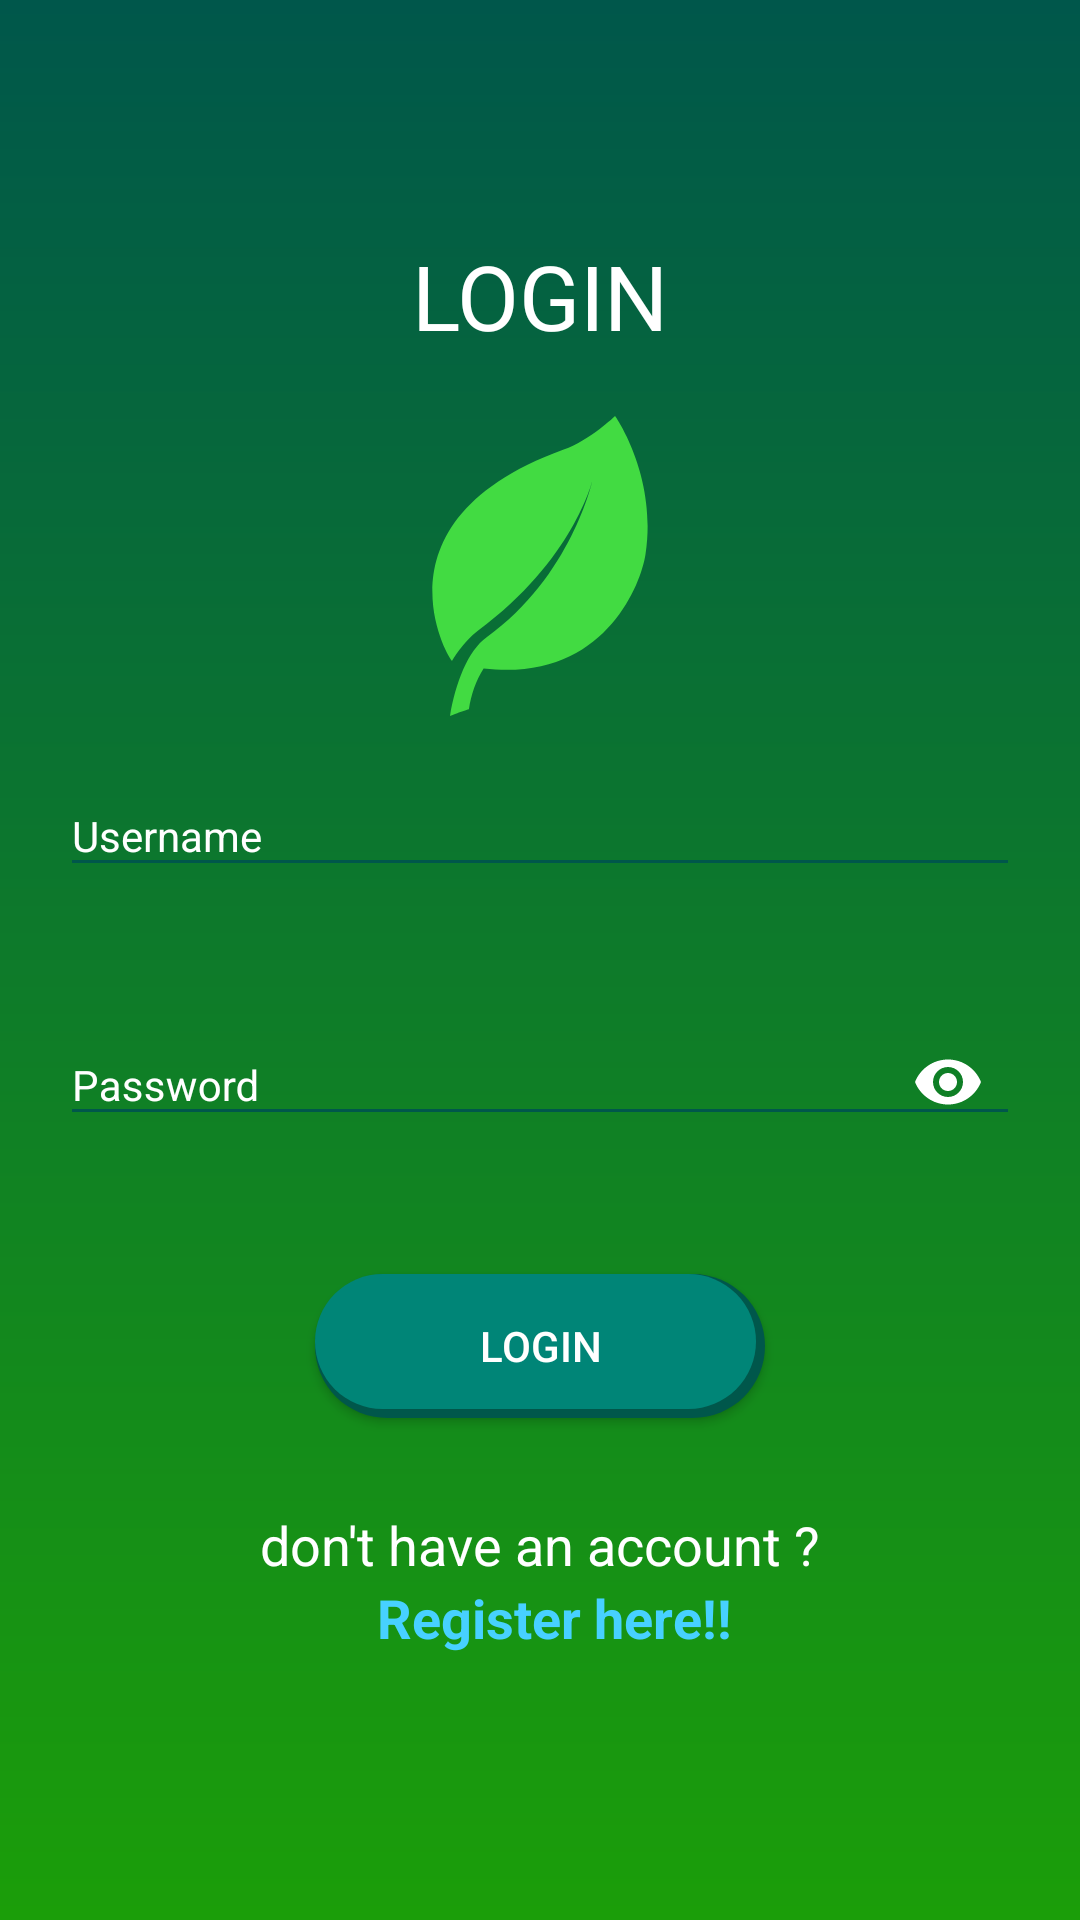

Screen size 1080*1920. Icon name, then its box in pixels as {"x1": x1, "y1": y1, "x2": x2, "y2": y2}:
leaf: {"x1": 432, "y1": 416, "x2": 648, "y2": 716}
